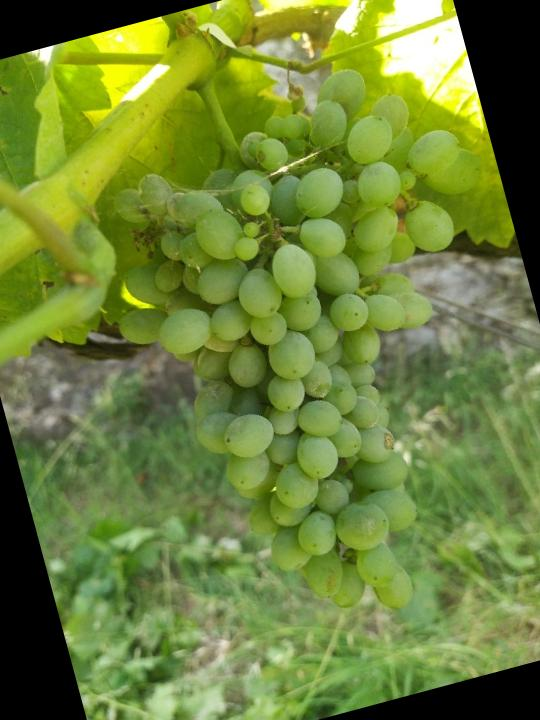grape: (59, 31, 540, 670)
